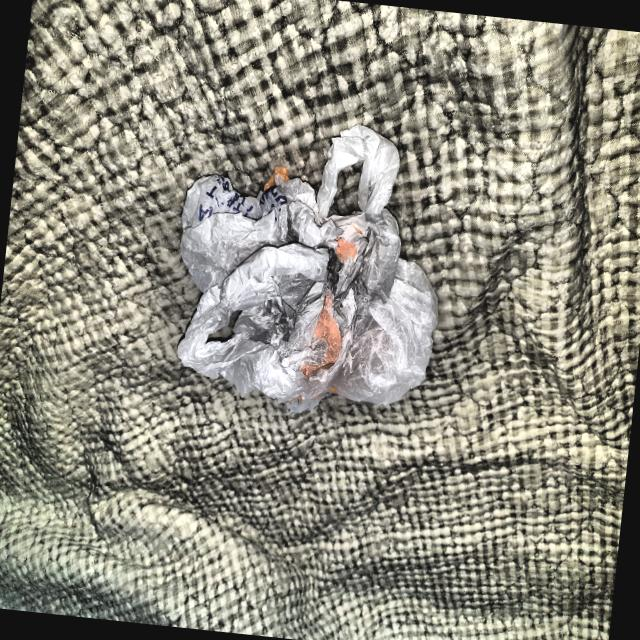plastic bag: (152, 108, 466, 427)
